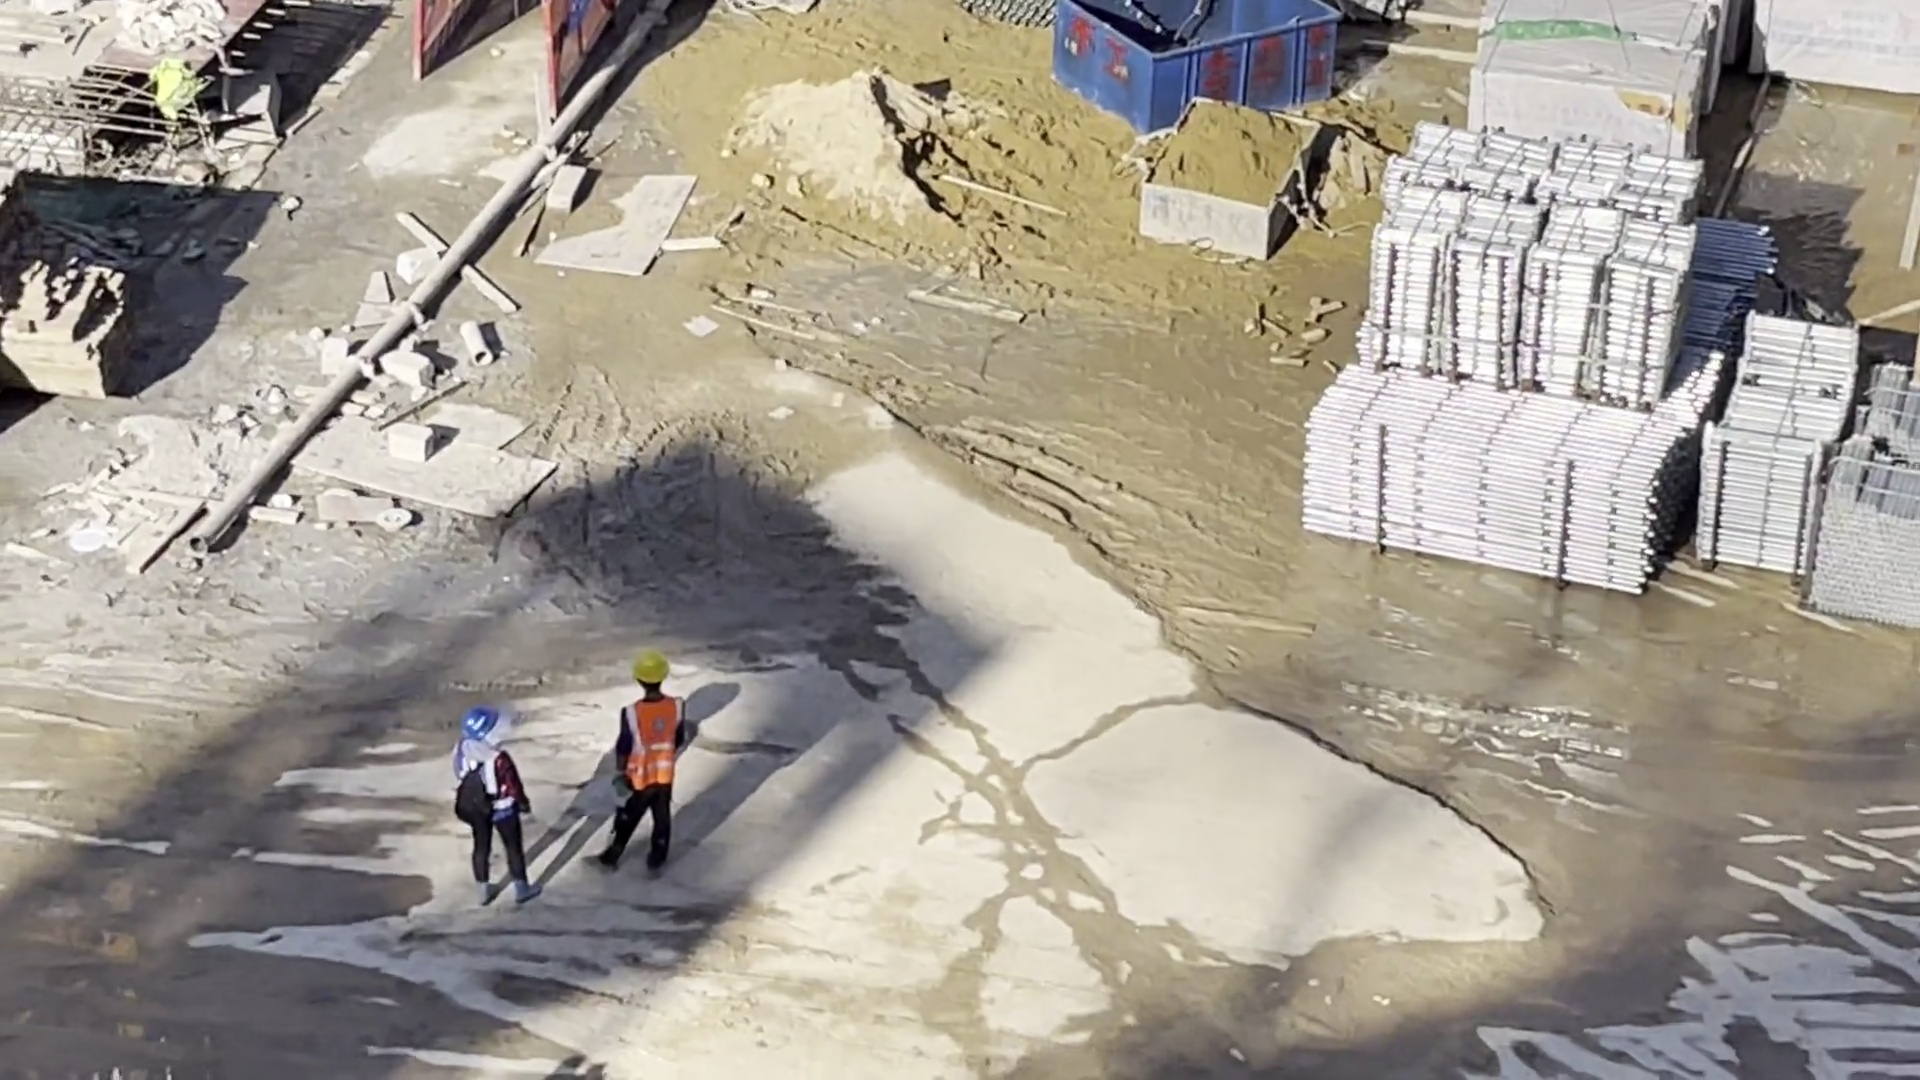fence: (413, 1, 624, 71)
helmet: (632, 653, 668, 686), (465, 708, 500, 737)
hopper: (1050, 1, 1335, 131), (1140, 97, 1321, 262)
person: (604, 663, 677, 874), (456, 712, 533, 904)
scaffold: (1306, 368, 1694, 603), (1378, 137, 1705, 403), (1704, 311, 1854, 572), (1797, 381, 1920, 639)
vest: (619, 691, 679, 788), (454, 754, 509, 812)
wood: (1, 278, 135, 395)
